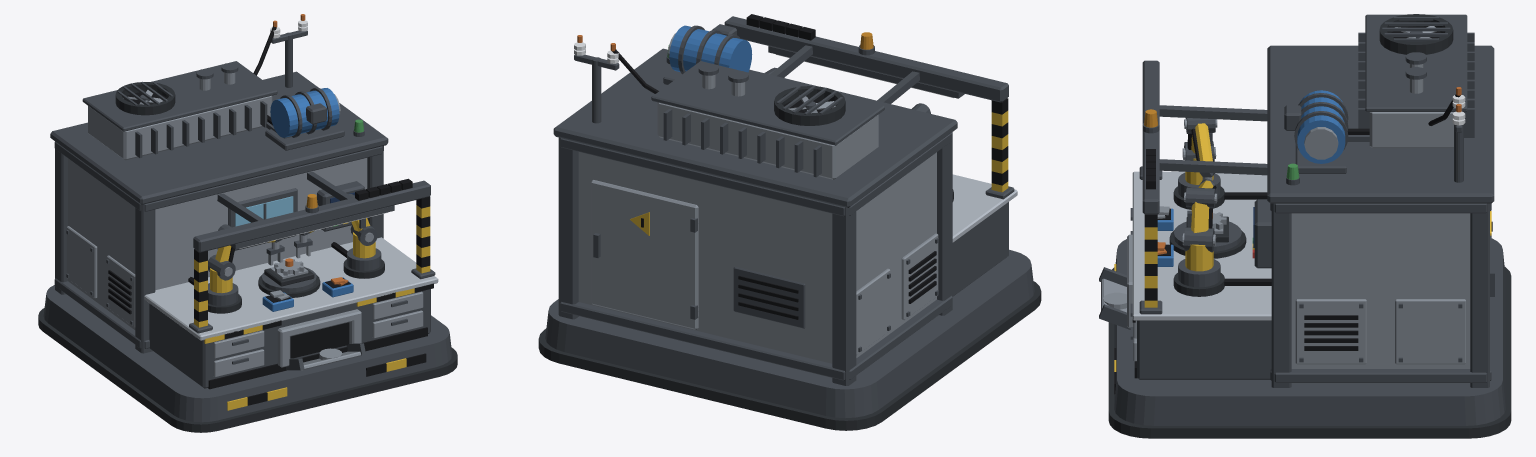
Rendered from assembleur_t2.glb.
The picture shows the model from 3 angles, left to right: view 1: azimuth 30°, elevation 25°; view 2: azimuth 150°, elevation 25°; view 3: azimuth 270°, elevation 25°; orthographic projection. The views are drawn at different scales.
Visible parts, largest first — view 1: pieces_acier_sombre.015, socle.002, caisson.002, caisson_toit.002, etabli_plateau.002, pieces_acier.015, pieces_noir.015, etabli.002, socle_plinthe.002, transformateur_toit.002, transformateur.002, pieces_jaune.015 (+14 smaller); view 2: pieces_acier_sombre.015, caisson.002, socle.002, caisson_toit.002, armoire_porte.002, socle_plinthe.002, transformateur_toit.002, transformateur.002, pieces_acier.015, pieces_noir.015, etabli.002, moteur.002 (+3 smaller); view 3: pieces_acier_sombre.015, socle.002, caisson_toit.002, caisson.002, etabli_plateau.002, pieces_acier.015, etabli.002, socle_plinthe.002, transformateur_toit.002, pieces_noir.015, transformateur.002, bras2_acier_sombre.002 (+13 smaller).
Part boxes in pixels (x1,y1,x2,y2): pieces_acier_sombre.015: (54,30,435,370); socle.002: (43,285,452,422); caisson.002: (68,158,367,329); caisson_toit.002: (50,71,388,204); etabli_plateau.002: (144,237,438,340); pieces_acier.015: (66,72,423,377); pieces_noir.015: (108,26,433,405); etabli.002: (149,289,430,388); socle_plinthe.002: (38,308,457,432); transformateur_toit.002: (82,61,277,131); transformateur.002: (88,95,272,160); pieces_jaune.015: (194,205,430,410); pieces_acier_sombre.015: (558,16,1014,385); caisson.002: (578,152,936,363); socle.002: (545,249,1034,418); caisson_toit.002: (553,48,957,207); armoire_porte.002: (591,180,698,329); socle_plinthe.002: (538,281,1041,430); transformateur_toit.002: (651,61,884,145); transformateur.002: (657,102,878,179); pieces_acier.015: (702,74,938,354); pieces_noir.015: (612,14,1008,319); etabli.002: (952,202,1008,296); moteur.002: (669,25,752,72); pieces_acier_sombre.015: (1099,17,1494,387); socle.002: (1114,238,1505,425); caisson_toit.002: (1267,45,1494,203); caisson.002: (1291,213,1470,383); etabli_plateau.002: (1132,171,1271,320); pieces_acier.015: (1101,64,1465,364); etabli.002: (1137,320,1271,379); socle_plinthe.002: (1108,267,1511,438); transformateur_toit.002: (1365,14,1467,111); pieces_noir.015: (1114,26,1492,394); transformateur.002: (1369,112,1453,148); bras2_acier_sombre.002: (1178,178,1220,287).
Size of the model in its own units: 2 by 1.66 by 2.
